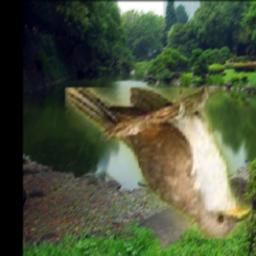Cuckoo: (66, 87, 253, 239)
